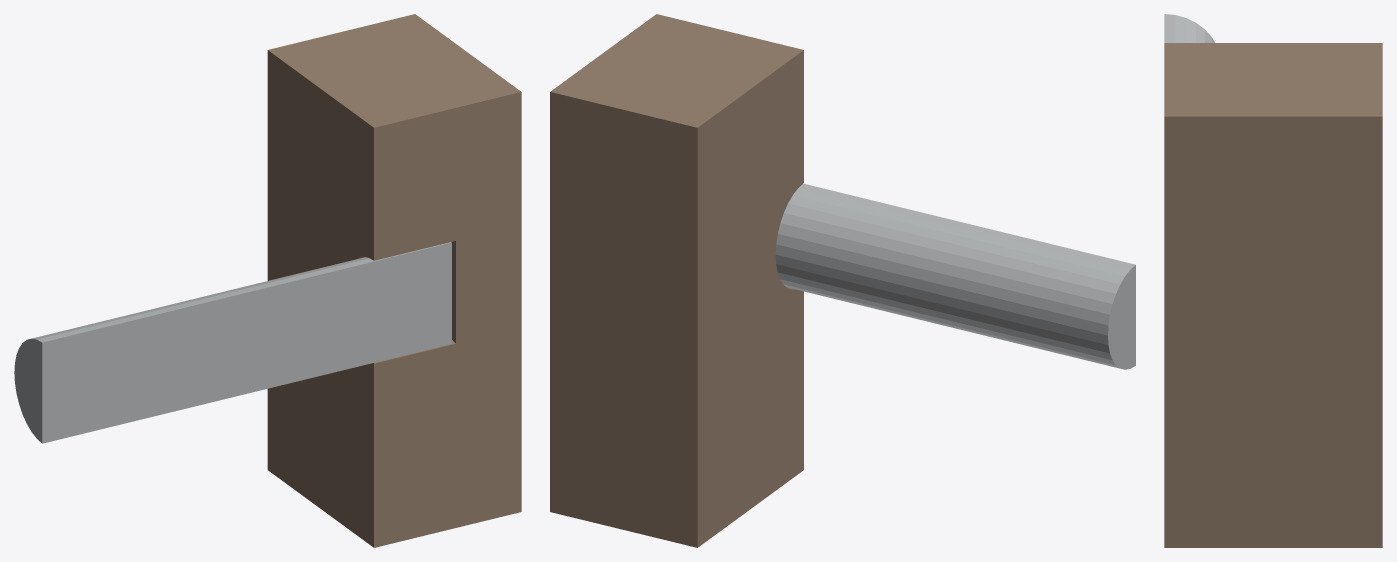
The model's file is pegmount-detail.glb.
The picture shows the model from 3 angles, left to right: view 1: azimuth 30°, elevation 25°; view 2: azimuth 150°, elevation 25°; view 3: azimuth 270°, elevation 25°; orthographic projection. The views are drawn at different scales.
Visible parts, largest first — view 1: Left-pegboard-18, Example-peg-11.8; view 2: Left-pegboard-18, Example-peg-11.8; view 3: Left-pegboard-18, Example-peg-11.8.
Part boxes in pixels (x1,y1,x2,y2): Left-pegboard-18: (267, 14, 521, 547); Example-peg-11.8: (14, 242, 451, 443); Left-pegboard-18: (550, 14, 803, 547); Example-peg-11.8: (775, 183, 1135, 369); Left-pegboard-18: (1164, 43, 1382, 547); Example-peg-11.8: (1164, 14, 1214, 42).
Size of the model in its own units: 0.0585 by 0.049 by 0.0225.
